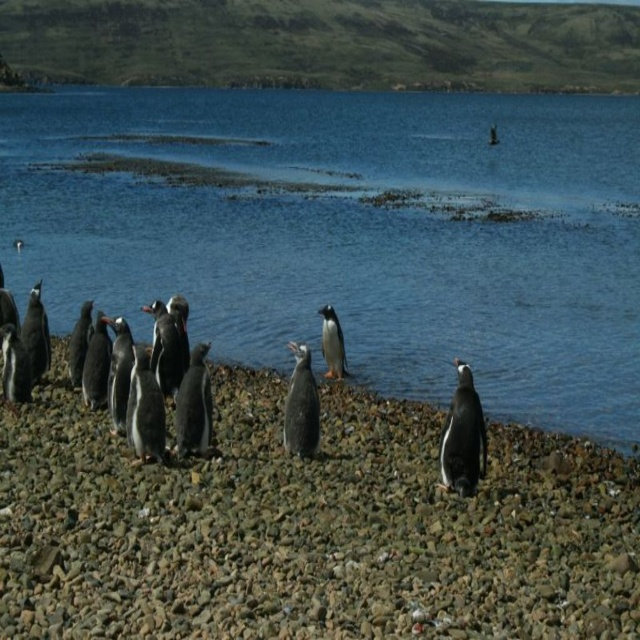Penguin: (435, 354, 490, 508), (121, 348, 170, 463), (175, 342, 218, 461), (286, 342, 322, 461), (18, 274, 53, 387), (104, 310, 134, 439), (79, 309, 110, 411), (159, 322, 191, 415), (62, 304, 96, 390), (0, 322, 33, 402), (316, 304, 348, 377), (141, 298, 170, 373)
